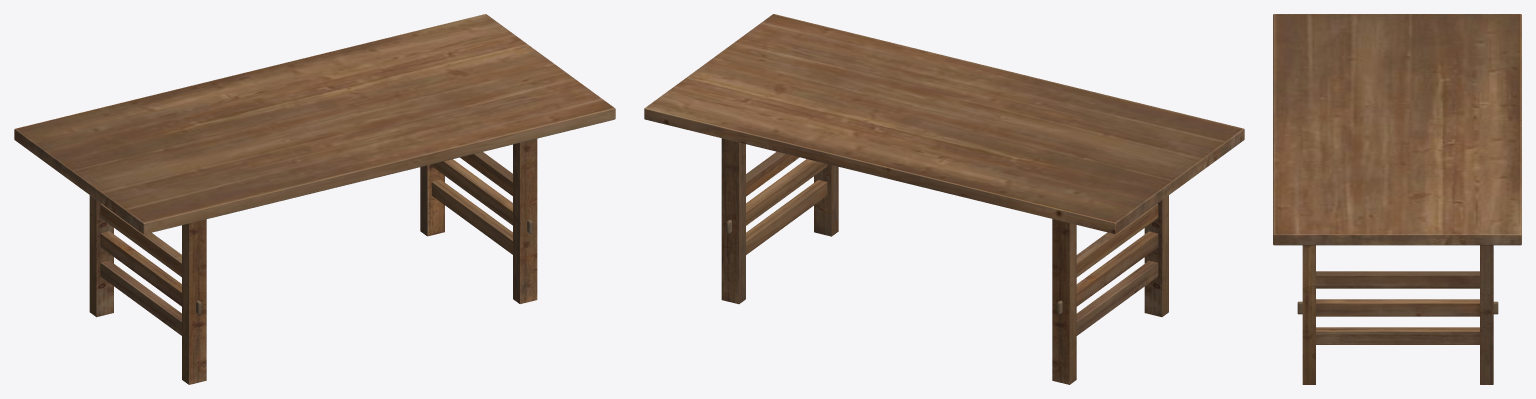
3 renders of one model, left to right at view 1: azimuth 30°, elevation 25°; view 2: azimuth 150°, elevation 25°; view 3: azimuth 270°, elevation 25°, orthographic. The views are drawn at different scales.
Visible parts, largest first — view 1: RootNode; view 2: RootNode; view 3: RootNode.
Boxes of the visible parts, bbox=[...] form: RootNode: bbox=[14, 14, 615, 384]; RootNode: bbox=[644, 14, 1244, 384]; RootNode: bbox=[1273, 14, 1521, 384].
Bounding box in the file's own units: 2 × 0.759 × 0.9513.
1 material, 1 textured.
